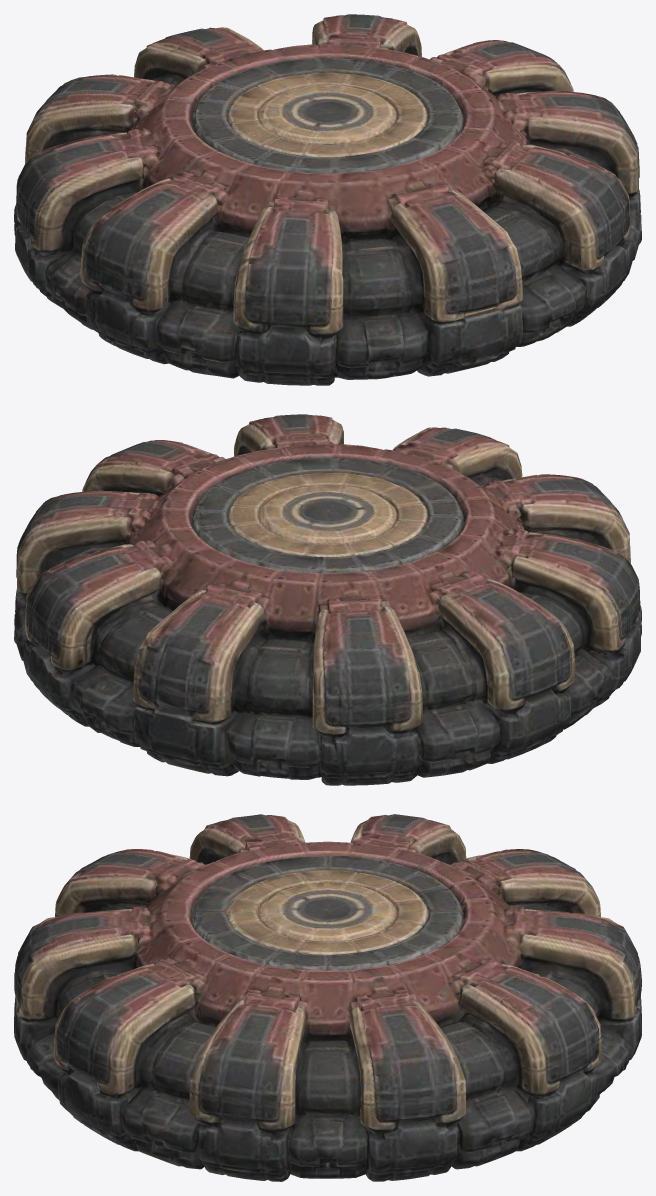
3 views of the same model, one above another, from view 1: azimuth 30°, elevation 25°; view 2: azimuth 150°, elevation 25°; view 3: azimuth 270°, elevation 25° (orthographic).
Parts seen in each view (by area): view 1: chassis; view 2: chassis; view 3: chassis.
Boxes of the visible parts, x1,y1,x2,y2 form: chassis: (14, 14, 641, 385); chassis: (14, 414, 641, 785); chassis: (14, 814, 641, 1181).
Size of the model in its own units: 0.9876 by 0.2826 by 0.9899.
Materials: 1 (1 with a texture image).
